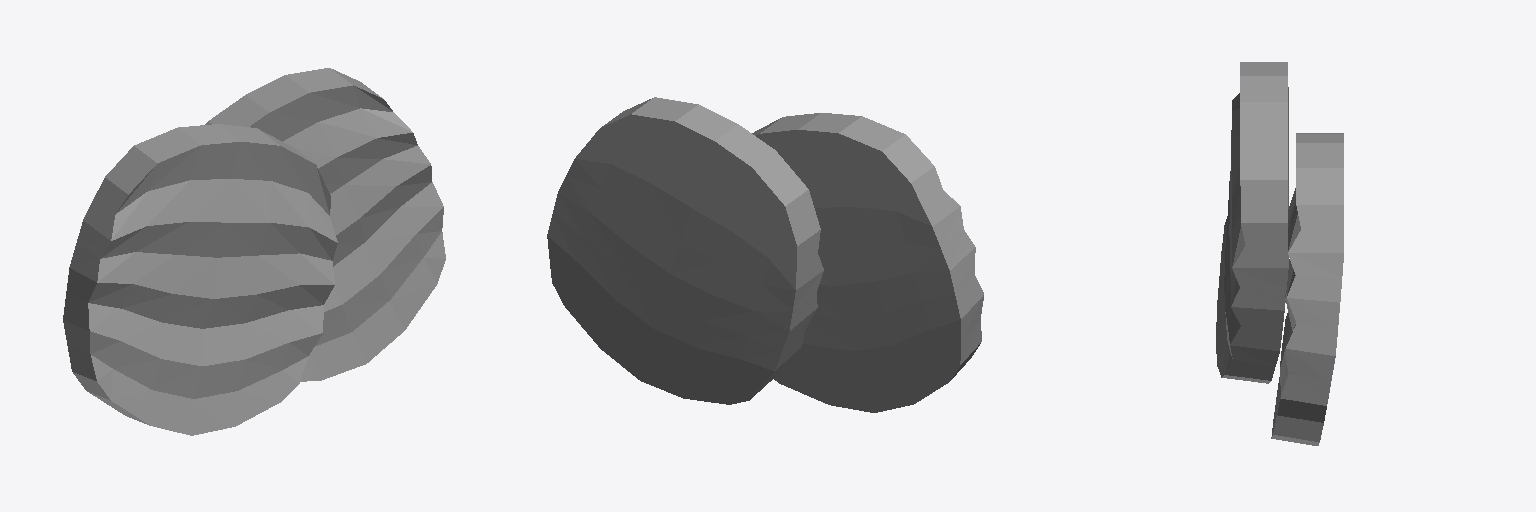
The model's file is Door_Pickles.obj.
The picture shows the model from 3 angles: view 1: azimuth 30°, elevation 25°; view 2: azimuth 150°, elevation 25°; view 3: azimuth 270°, elevation 25°; orthographic projection.
Visible parts, largest first — view 1: Cylinder.004_Cylinder.008; view 2: Cylinder.004_Cylinder.008; view 3: Cylinder.004_Cylinder.008.
Part boxes in pixels (x1,y1,x2,y2): Cylinder.004_Cylinder.008: (63,68,445,435); Cylinder.004_Cylinder.008: (547,97,983,412); Cylinder.004_Cylinder.008: (1216,62,1343,445).
Bounding box in the file's own units: 74.41 × 52.97 × 21.48.